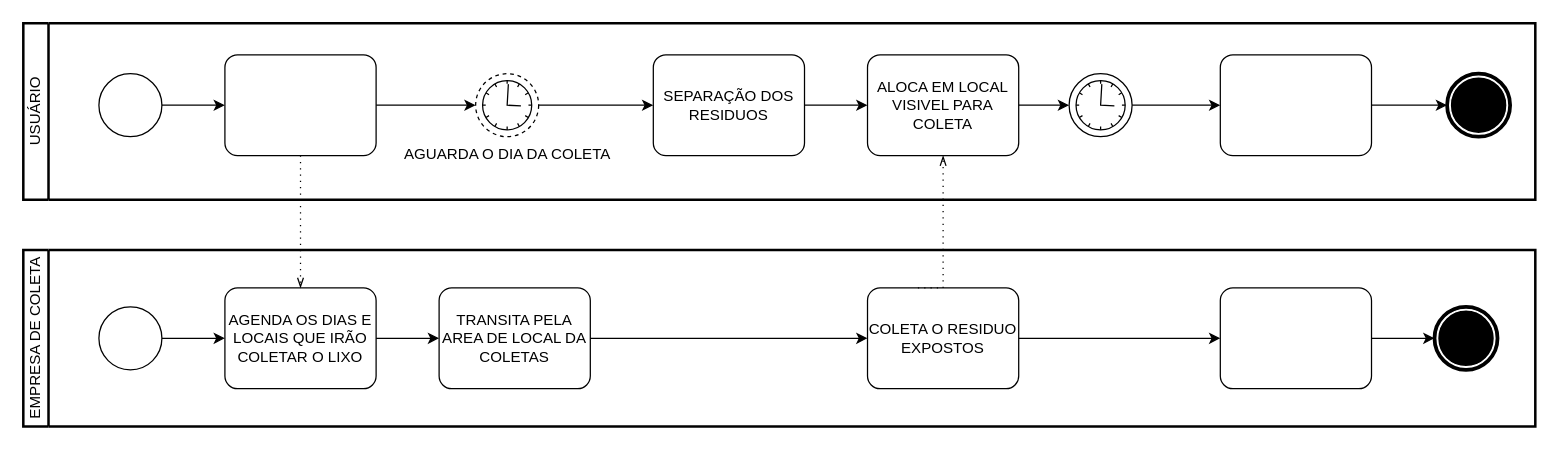
Image size: 1557x449. Some labels were removed from this diagram. Each missing label, with the centre of its shape:
"AGUARDA A COLETA" goes at (1100,104).
"DESCARTA OS RESIDUOS APROPRIADAMENTE" goes at (1295,338).
"VERIFICA OS DIAS DE COLETA" goes at (300,105).
"VERIFICA SE O LIXO FOI RETIRADO" goes at (1295,105).
